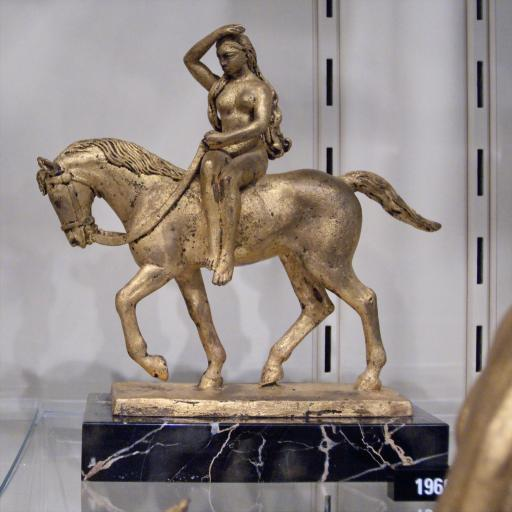horse: (34, 136, 442, 396)
